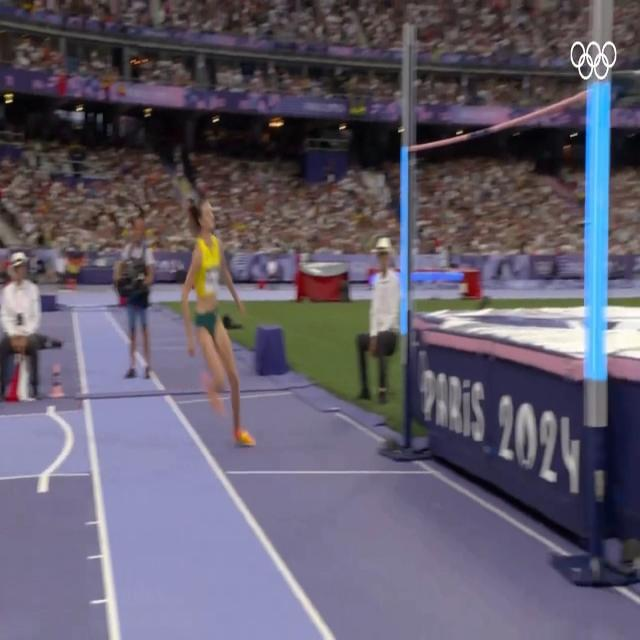run: (183, 198, 255, 444)
